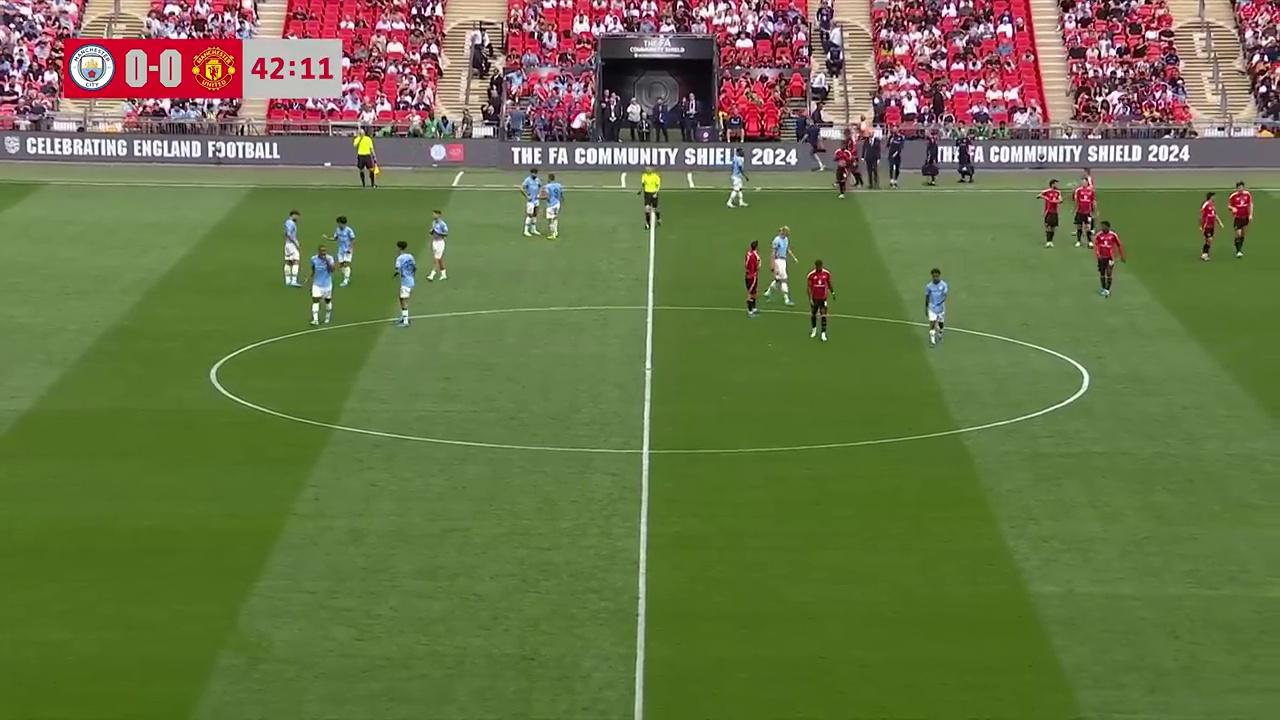player: (1092, 220, 1125, 298), (765, 228, 796, 306), (806, 259, 835, 342), (392, 241, 416, 327), (309, 246, 334, 326), (1069, 173, 1096, 247), (924, 268, 949, 347), (1228, 182, 1253, 257), (1037, 178, 1063, 247), (1198, 192, 1223, 261), (331, 216, 355, 284), (426, 209, 448, 281), (742, 240, 761, 318), (541, 175, 564, 239), (520, 171, 540, 236), (283, 225, 301, 286), (284, 209, 301, 270), (726, 161, 748, 207), (834, 144, 852, 198)
referee: (355, 128, 379, 188), (639, 166, 661, 229)
